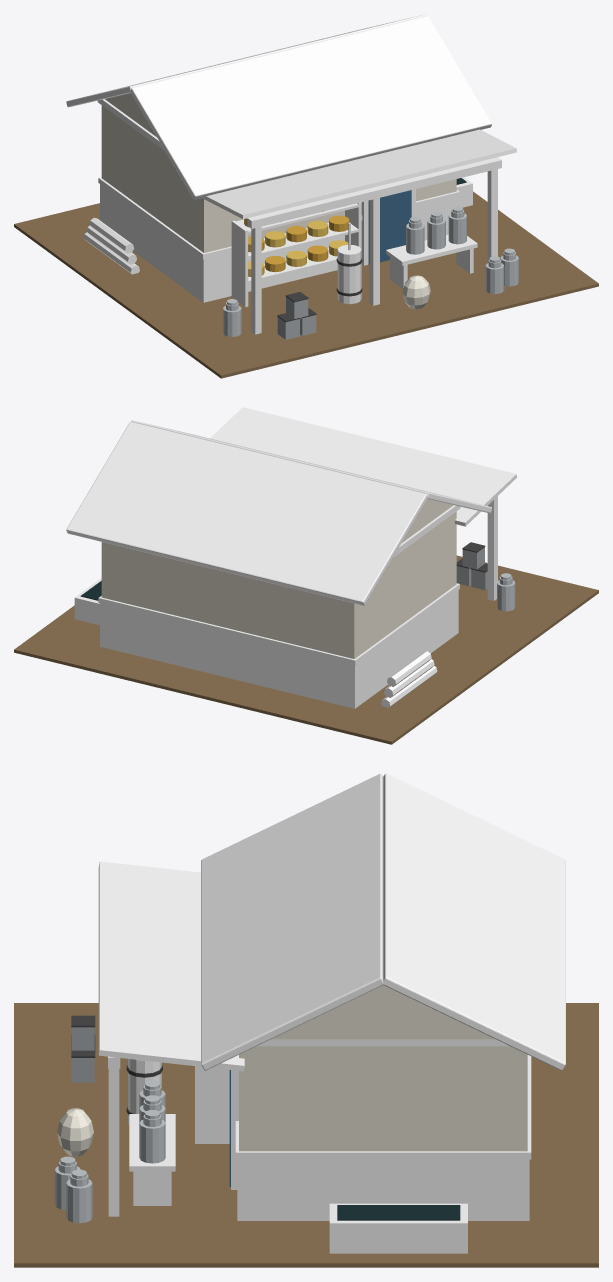
The model's file is mandira.glb.
3 renders of one model, top to bottom at view 1: azimuth 30°, elevation 25°; view 2: azimuth 150°, elevation 25°; view 3: azimuth 270°, elevation 25°, orthographic. The views are drawn at different scales.
Parts seen in each view (by area): view 1: Alin; view 2: Alin; view 3: Alin.
Part boxes in pixels (x1,y1,x2,y2): Alin: [14, 14, 598, 378]; Alin: [14, 407, 598, 744]; Alin: [14, 773, 598, 1267].
Size of the model in its own units: 1 by 0.4694 by 0.95.
